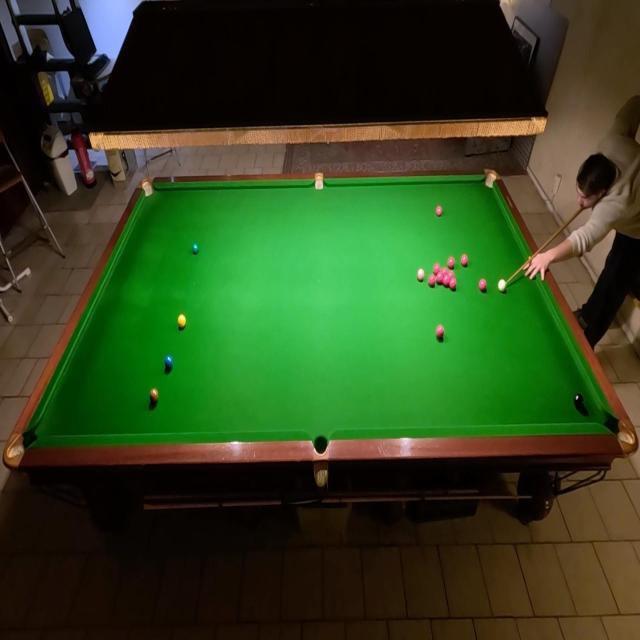Ball: (572, 391, 586, 414), (148, 386, 160, 406), (434, 322, 446, 342), (176, 312, 186, 332), (164, 353, 174, 373), (497, 276, 508, 294), (416, 267, 426, 284), (478, 278, 488, 294), (434, 204, 444, 219), (191, 240, 200, 256), (436, 270, 444, 285), (450, 277, 458, 291), (442, 274, 450, 288), (428, 274, 436, 288), (447, 256, 455, 270), (461, 253, 468, 268), (434, 263, 442, 275), (441, 267, 448, 278), (448, 270, 454, 281)
Pocket: (6, 425, 40, 470), (603, 414, 636, 452), (312, 434, 330, 456), (482, 171, 498, 190), (141, 180, 155, 199), (314, 174, 326, 192)
